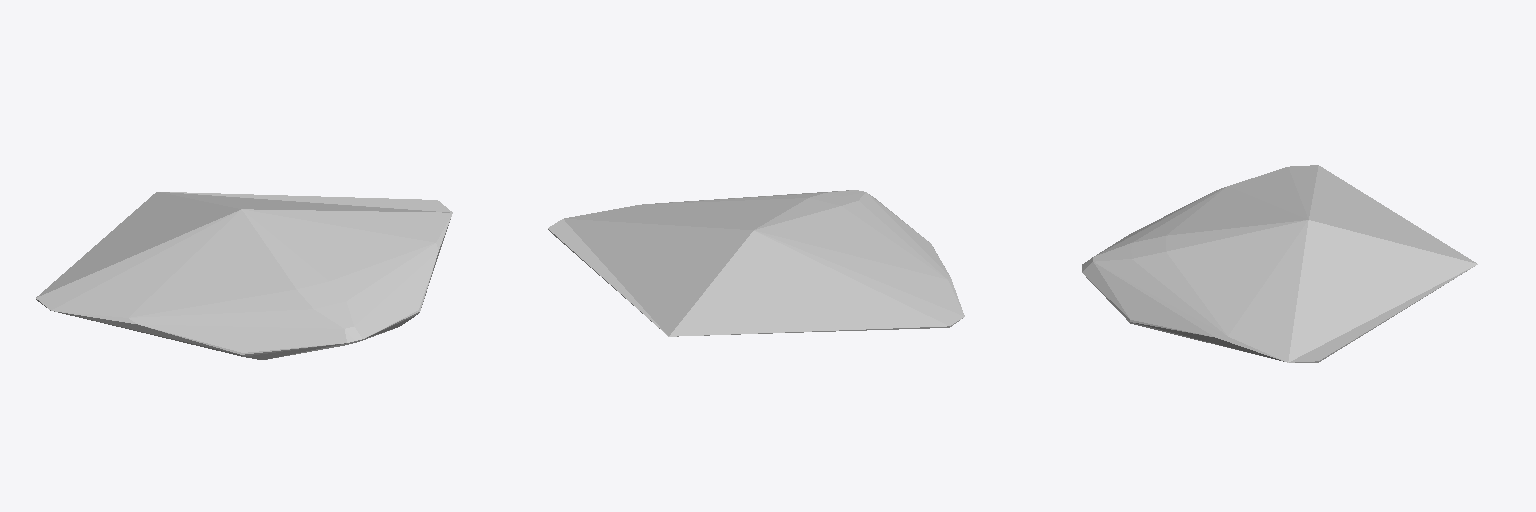
File: spaceship-collider.obj
3 renders of one model, left to right at view 1: azimuth 30°, elevation 25°; view 2: azimuth 150°, elevation 25°; view 3: azimuth 270°, elevation 25°, orthographic.
Parts seen in each view (by area): view 1: __unnamed; view 2: __unnamed; view 3: __unnamed.
Boxes of the visible parts, box(x1,y1,x2,y2) form: __unnamed: box(36, 192, 452, 359); __unnamed: box(548, 190, 964, 336); __unnamed: box(1082, 165, 1477, 362).
Bounding box in the file's own units: 26.54 × 4.56 × 22.68.